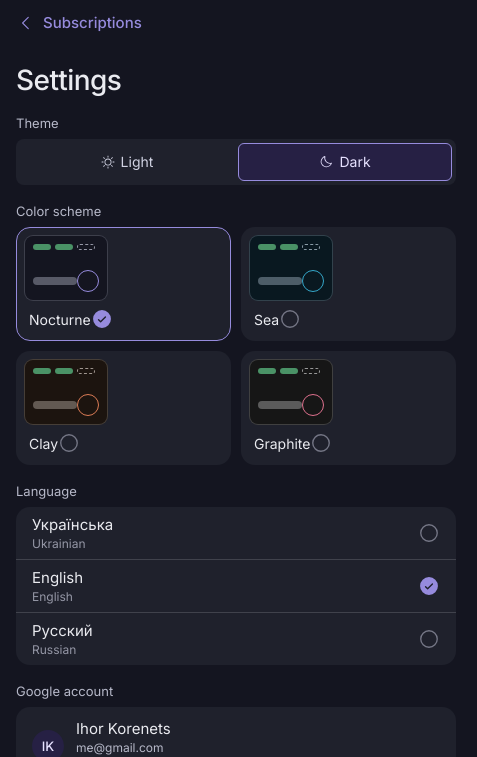
Test: Settings › changes theme, scheme and language
The width and height of the screenshot is (477, 757).
Click the button "Light".
click(127, 162)  # box [20,143,234,181]
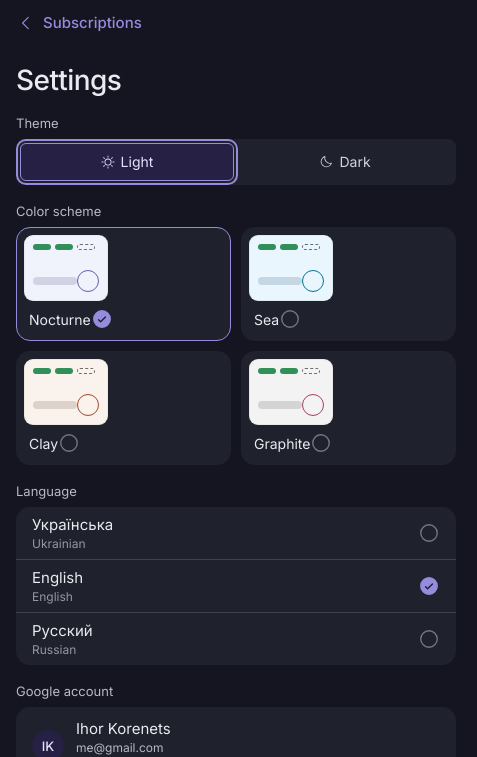
Click the button "Sea".
click(348, 284)  # box [241,227,456,341]
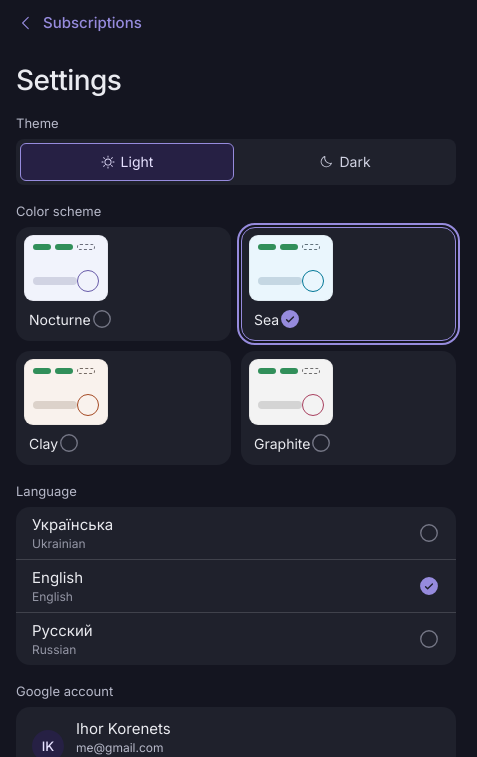
Click the button "Українська Ukrainian".
click(73, 524)  # box [16,507,456,560]
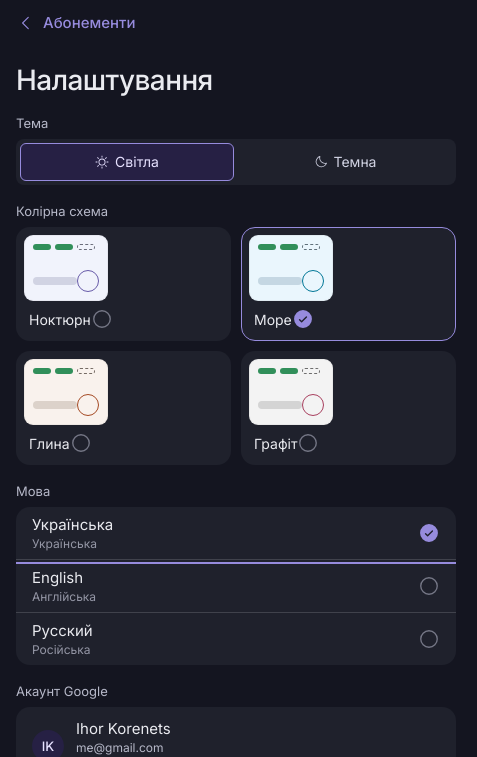
Check: the heading "Налаштування" is shown, box [16,63,213,97]
